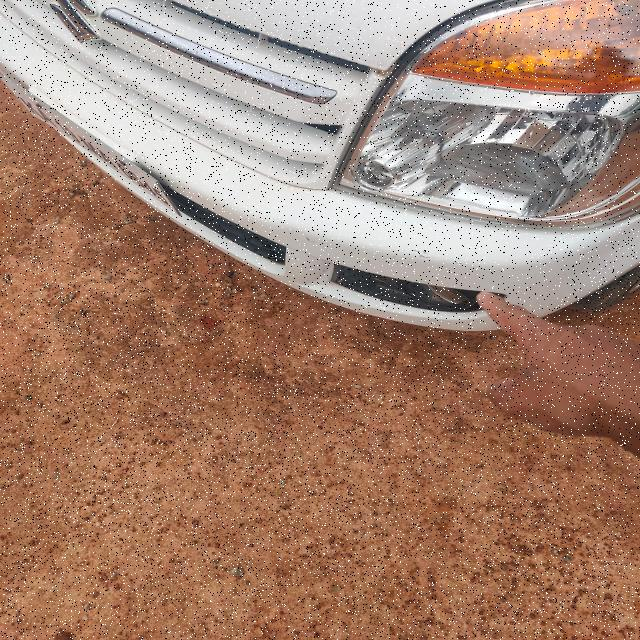front-bumper-dent: (302, 169, 600, 346)
